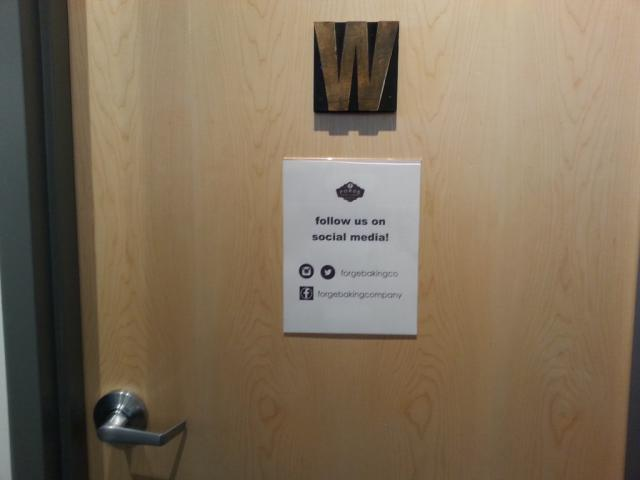Door-handle: (92, 390, 188, 447)
